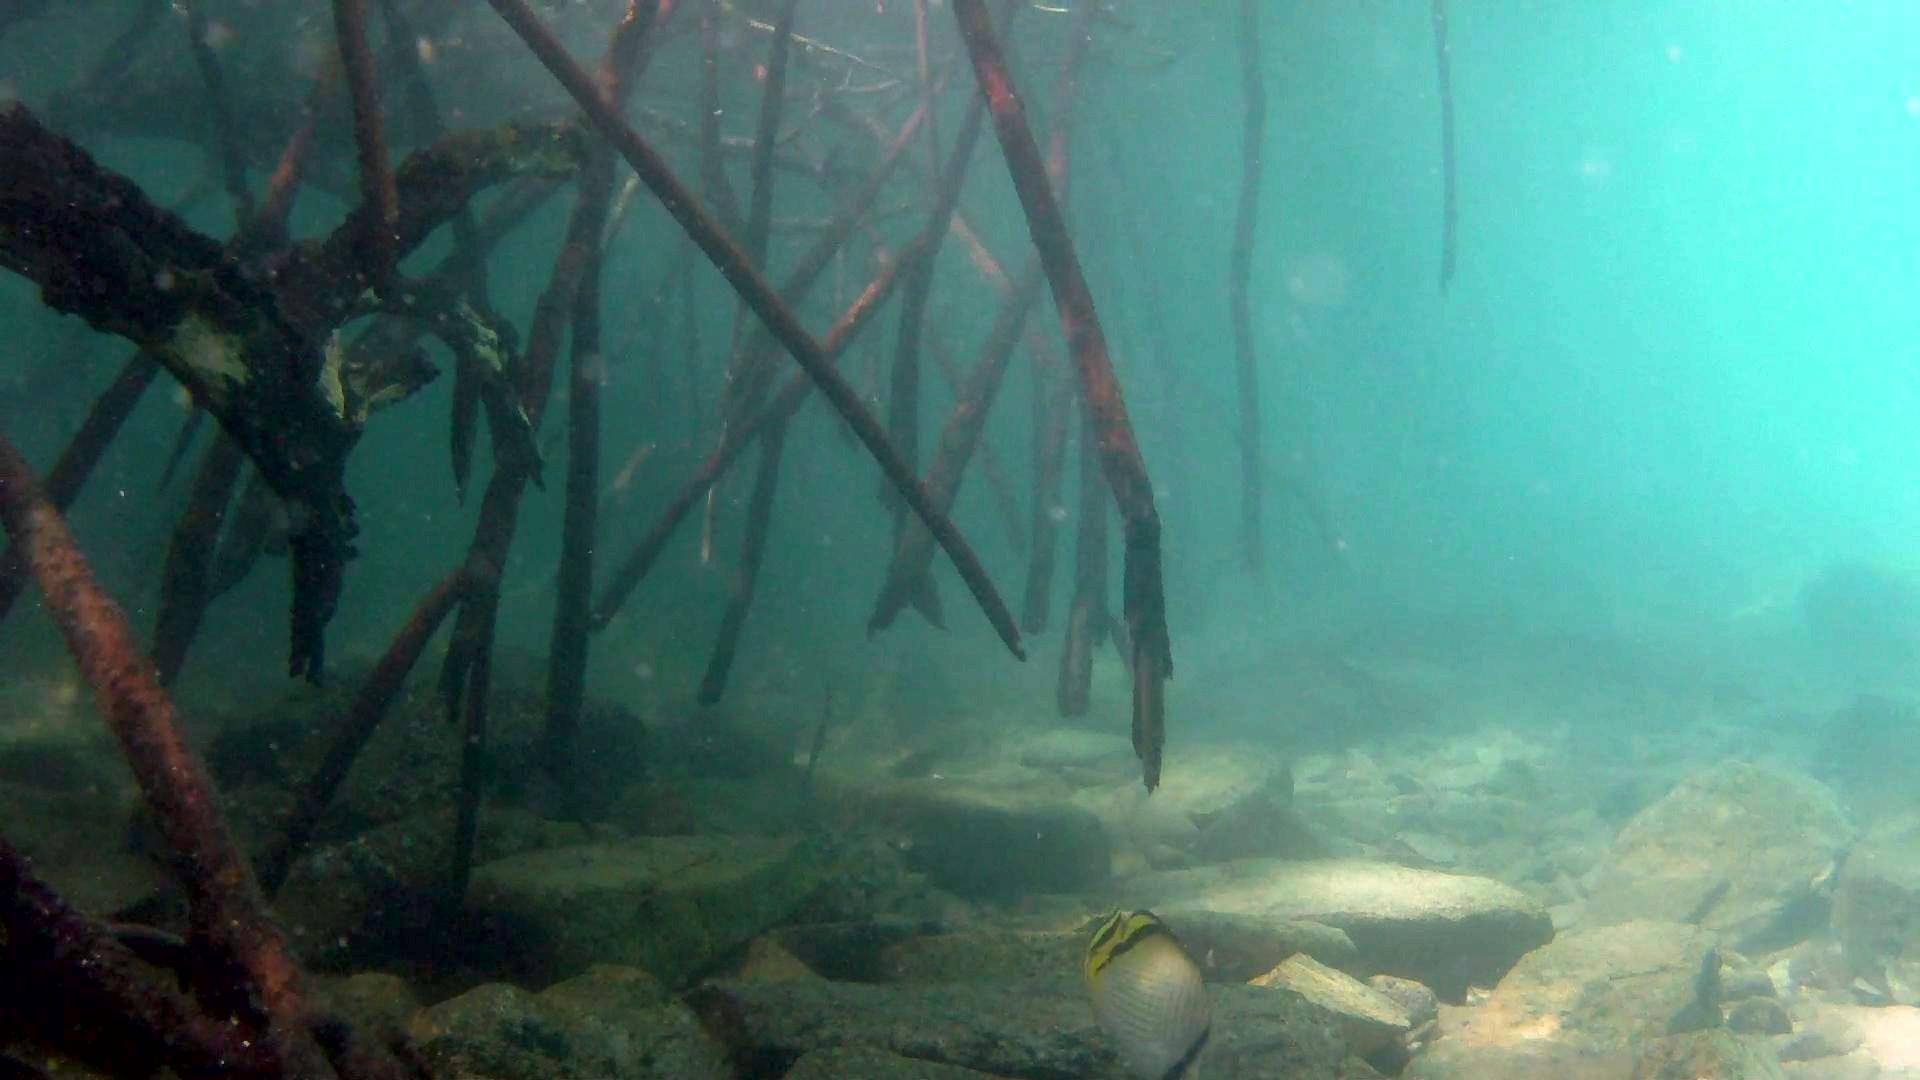chaetodon vagabundus: (1077, 899, 1216, 1080)
